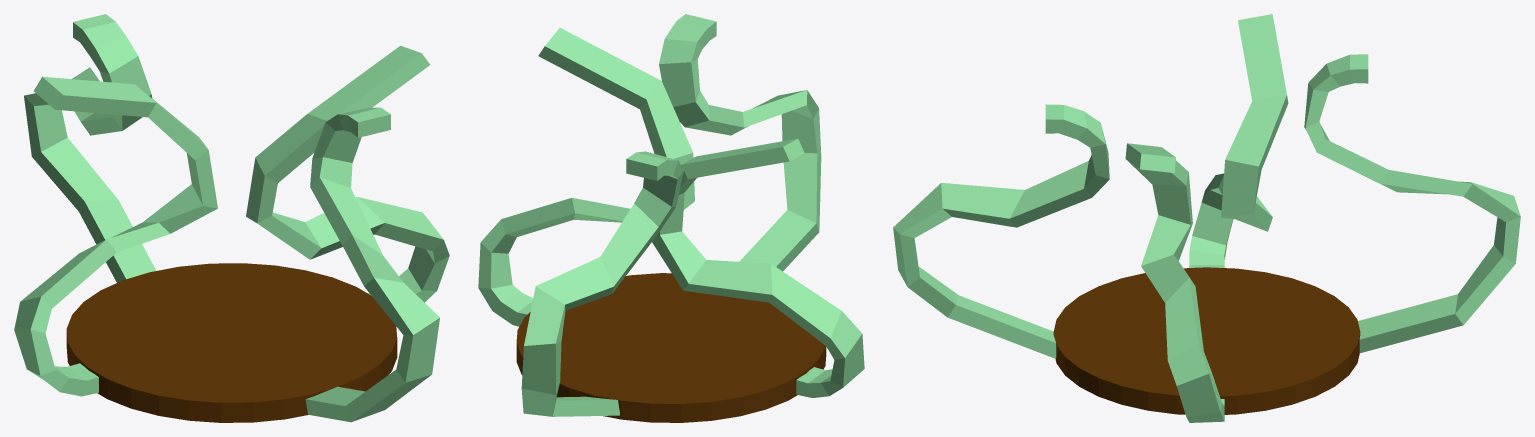
File: illusion-3.fbx
3 views of the same model, side by side, from view 1: azimuth 30°, elevation 25°; view 2: azimuth 150°, elevation 25°; view 3: azimuth 270°, elevation 25° (orthographic). The views are drawn at different scales.
Visible parts, largest first — view 1: Cylinder, Cube.001, Cube, Cube.002, Cube.003; view 2: Cylinder, Cube, Cube.003, Cube.001, Cube.002; view 3: Cylinder, Cube.001, Cube.003, Cube.002, Cube.
Part boxes in pixels (x1=…): Cylinder: x1=66, y1=263, x2=397, y2=422; Cube.001: x1=305, y1=107, x2=439, y2=422; Cube: x1=14, y1=76, x2=217, y2=396; Cube.002: x1=246, y1=45, x2=449, y2=302; Cube.003: x1=24, y1=14, x2=156, y2=282; Cylinder: x1=516, y1=273, x2=826, y2=422; Cube: x1=652, y1=138, x2=864, y2=397; Cube.003: x1=521, y1=151, x2=683, y2=416; Cube.001: x1=659, y1=14, x2=821, y2=271; Cube.002: x1=478, y1=28, x2=694, y2=326; Cylinder: x1=1053, y1=267, x2=1360, y2=414; Cube.001: x1=893, y1=104, x2=1109, y2=358; Cube.003: x1=1304, y1=54, x2=1520, y2=353; Cube.002: x1=1125, y1=143, x2=1224, y2=422; Cube: x1=1189, y1=14, x2=1288, y2=267.
Size of the model in its own units: 546 by 373 by 791.
